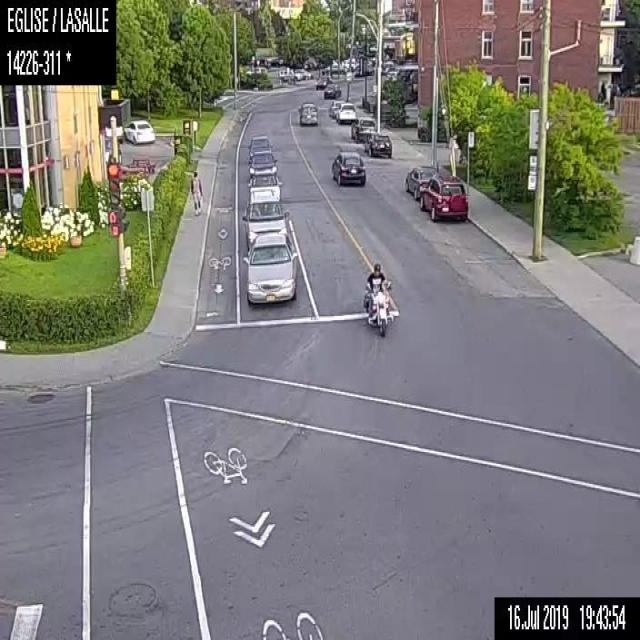pedestrian: (189, 168, 204, 216)
vehicle: (240, 230, 298, 306), (239, 187, 290, 243), (361, 261, 392, 335), (418, 178, 469, 222), (330, 148, 365, 184), (403, 165, 440, 199), (246, 165, 284, 188), (122, 119, 155, 143), (348, 115, 377, 141), (366, 132, 392, 157), (334, 101, 356, 122), (298, 102, 318, 125), (247, 148, 277, 162), (247, 134, 273, 148), (328, 99, 342, 116), (323, 83, 340, 96), (294, 67, 310, 80), (316, 76, 332, 88)
